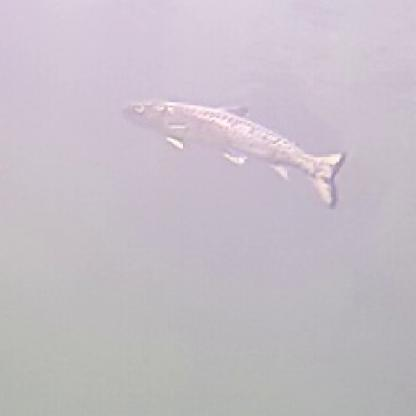salmon: (118, 92, 348, 208)
